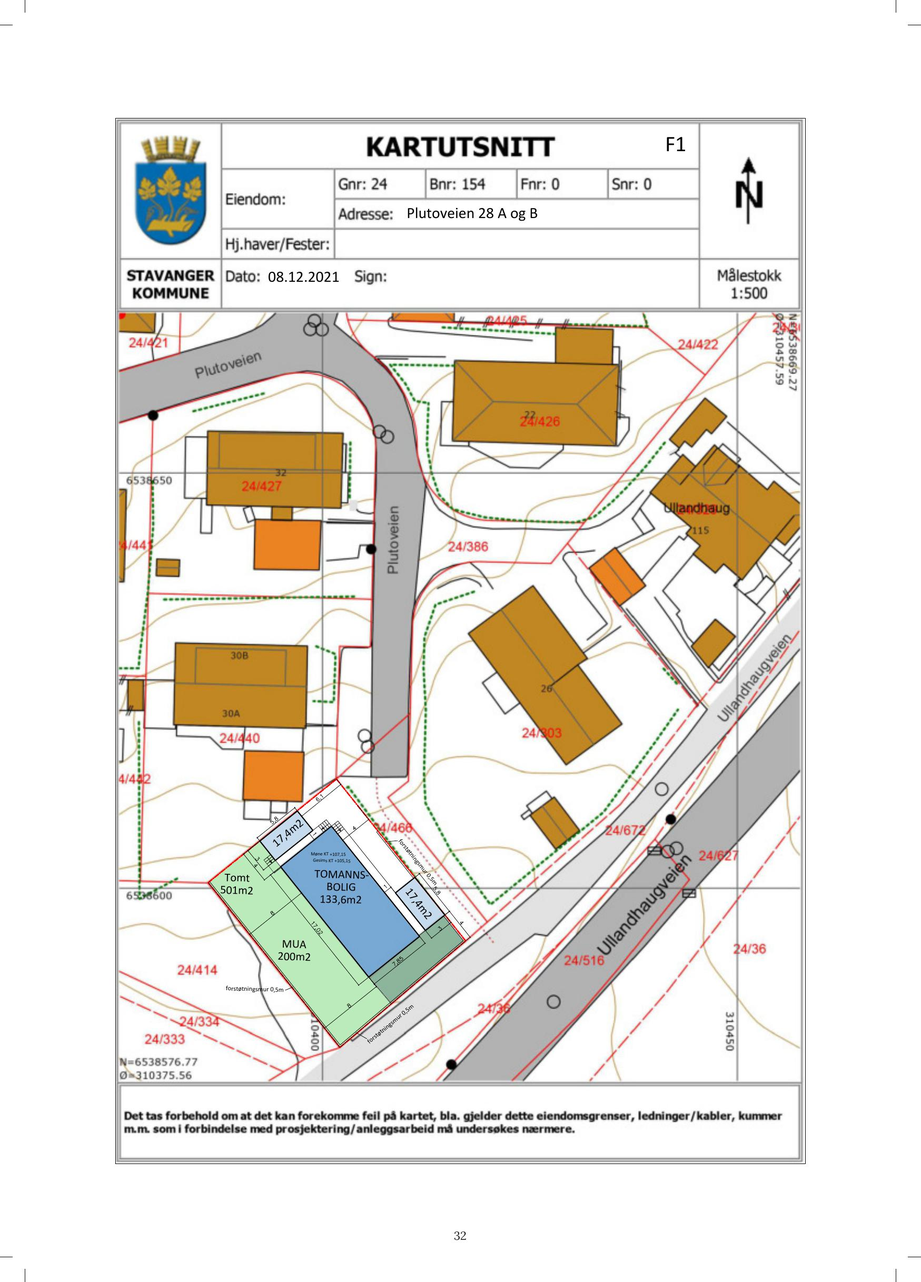situasjonskart: (119, 314, 801, 1080)
